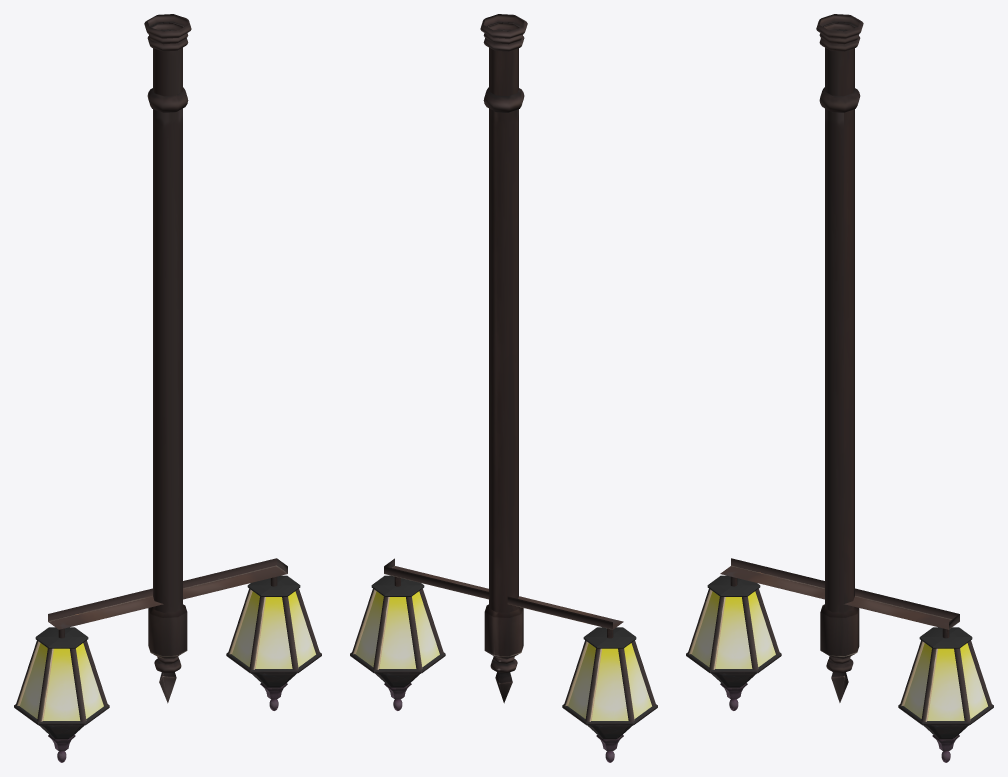
Rendered from model_streetlamp.fbx.
3 views of the same model, side by side, from view 1: azimuth 30°, elevation 25°; view 2: azimuth 150°, elevation 25°; view 3: azimuth 330°, elevation 25° (orthographic).
Visible parts, largest first — view 1: model_streetlamp; view 2: model_streetlamp; view 3: model_streetlamp.
Part boxes in pixels (x1,y1,x2,y2): model_streetlamp: [14, 14, 321, 762]; model_streetlamp: [350, 14, 657, 762]; model_streetlamp: [686, 14, 993, 762].
Size of the model in its own units: 94.9 by 228 by 27.69.
